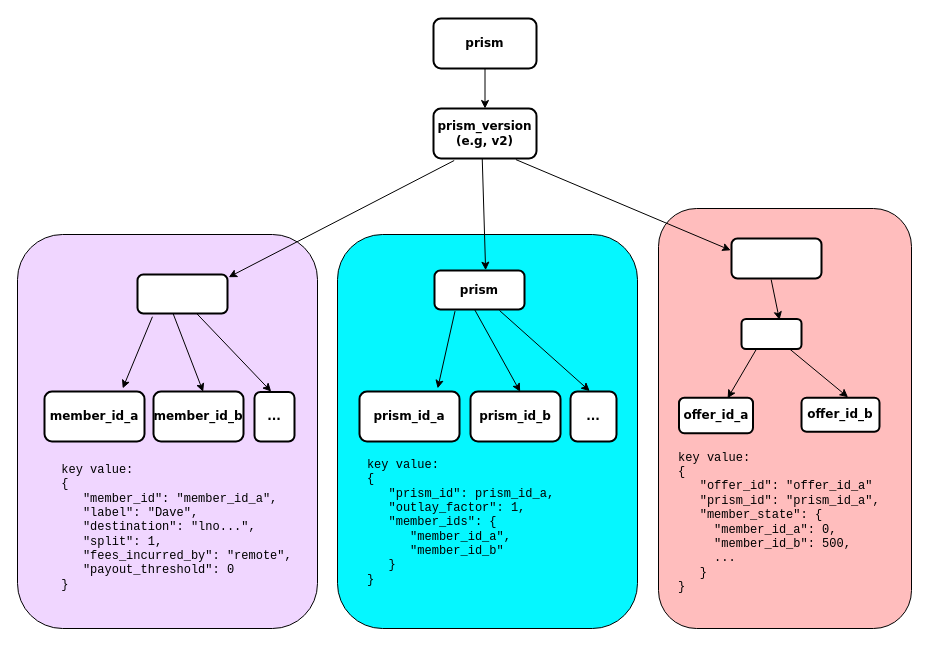
The diagram is 929 pixels wide and 646 high, and some of its shapes have lost their labels. The box of each missing label's shape, as (x1, y1, x2, y2) in pixels:
bind: (730, 237, 822, 279)
bolt12: (740, 318, 802, 350)
member: (136, 273, 228, 314)
